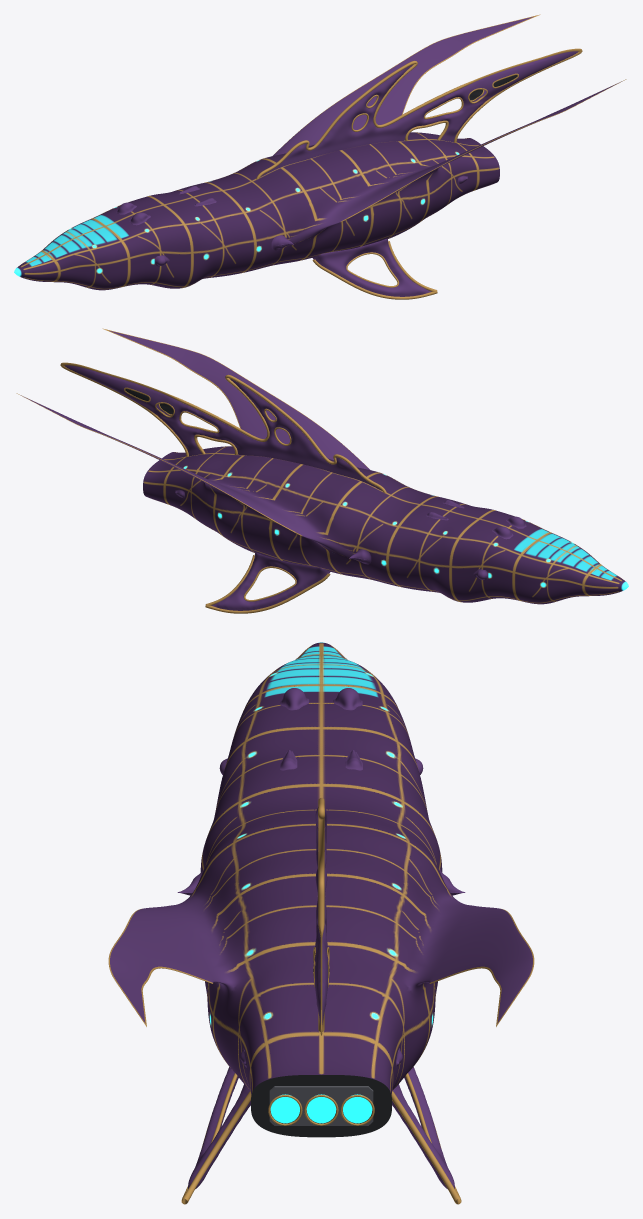
The model's file is model_v47_web.glb.
3 views of the same model, one above another, from view 1: azimuth 30°, elevation 25°; view 2: azimuth 150°, elevation 25°; view 3: azimuth 270°, elevation 25° (orthographic). The views are drawn at different scales.
Parts seen in each view (by area): view 1: EXT__EXT_Hull, EXT__EXT_Blade__NC, EXT__EXT_Blade, EXT__EXT_Copper__NC, EXT__EXT_Copper; view 2: EXT__EXT_Hull, EXT__EXT_Blade__NC, EXT__EXT_Copper__NC; view 3: EXT__EXT_Hull, EXT__EXT_Blade__NC, EXT__INT_Dark, EXT__EXT_Blade, EXT__EXT_Copper__NC, INT_S__INT_Shell, DRV__DRV_Glow__NC, EXT__EXT_Copper.
Boxes of the visible parts, x1,y1,x2,y2 form: EXT__EXT_Hull: [14, 14, 626, 290]; EXT__EXT_Blade__NC: [116, 51, 578, 214]; EXT__EXT_Blade: [129, 175, 467, 296]; EXT__EXT_Copper__NC: [256, 48, 582, 179]; EXT__EXT_Copper: [312, 241, 437, 299]; EXT__EXT_Hull: [16, 328, 628, 604]; EXT__EXT_Blade__NC: [64, 365, 513, 610]; EXT__EXT_Copper__NC: [60, 362, 386, 613]; EXT__EXT_Hull: [108, 642, 534, 1094]; EXT__EXT_Blade__NC: [314, 688, 465, 1188]; EXT__INT_Dark: [251, 1075, 391, 1137]; EXT__EXT_Blade: [177, 688, 309, 1188]; EXT__EXT_Copper__NC: [313, 798, 461, 1204]; INT_S__INT_Shell: [269, 1086, 373, 1125]; DRV__DRV_Glow__NC: [306, 1094, 372, 1123]; EXT__EXT_Copper: [181, 1073, 251, 1204].
Bounding box in the file's own units: 117 × 40.32 × 37.72.
27 materials, 1 textured.
